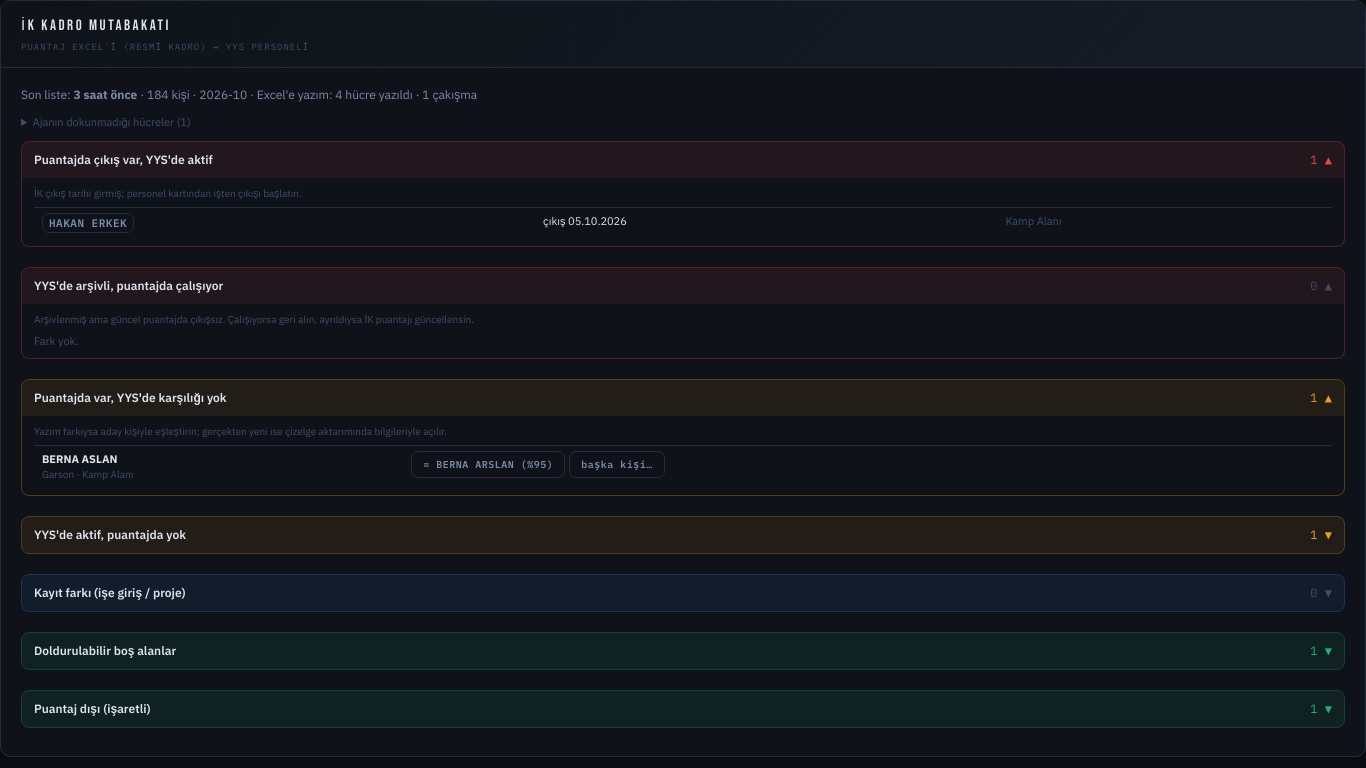
Test: HrRosterPanel › özet, çakışmalar ve açık bölümler görünür; TC maskeli
Expected: the text "3 saat önce" is shown, [74,87,137,102]
Expected: the text "4 hücre yazıldı · 1 çakışma" is shown, [335,87,477,102]
Click the button "Doldurulabilir boş alanlar 1 ▼".
click(105, 650)  # box [22,633,1344,669]
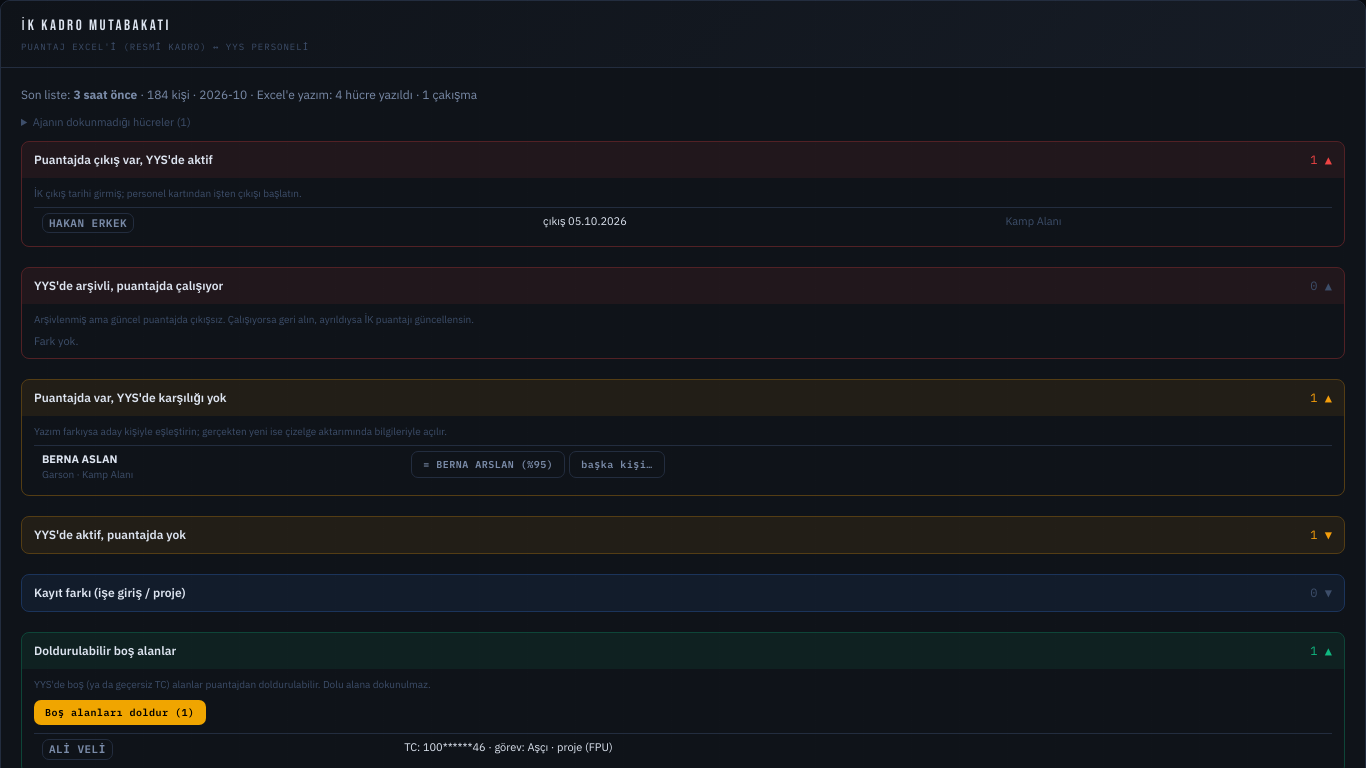
Expected: the text "TC: 100******46 · görev: Aşçı · proje (FPU)" is shown, [396,734,1332,764]
